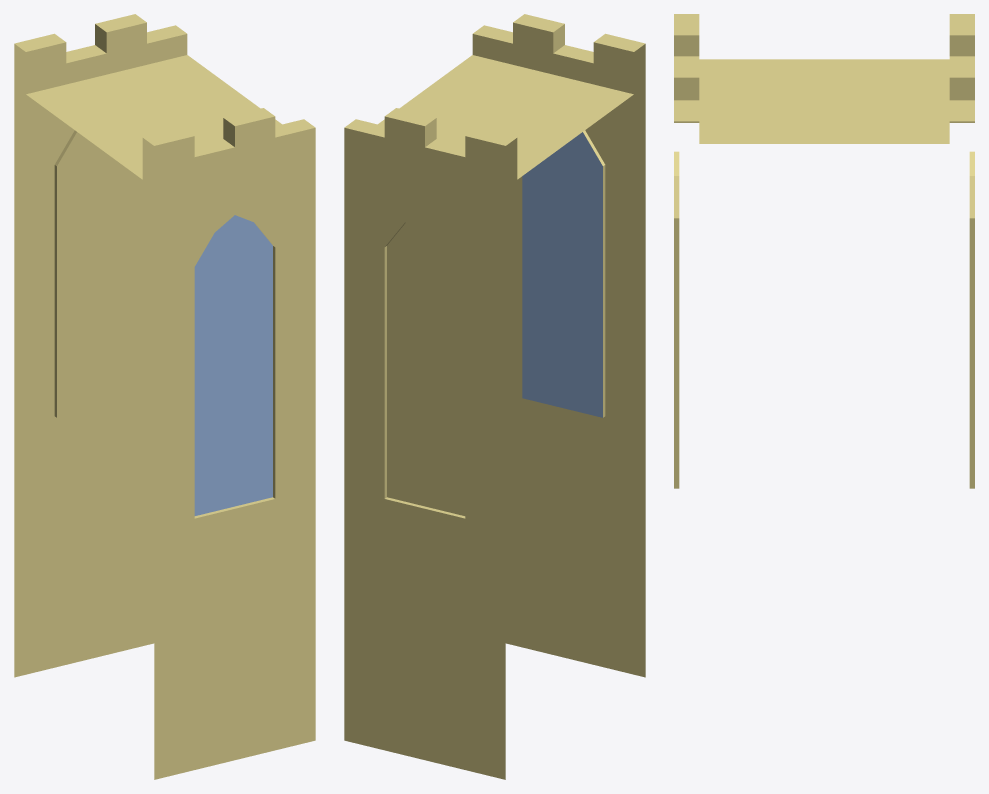
The model's file is CityWall01.fbx.
The picture shows the model from 3 angles, left to right: view 1: azimuth 30°, elevation 25°; view 2: azimuth 150°, elevation 25°; view 3: azimuth 270°, elevation 25°; orthographic projection. The views are drawn at different scales.
Parts seen in each view (by area): view 1: CityWall01_LOD0; view 2: CityWall01_LOD0; view 3: CityWall01_LOD0.
Boxes of the visible parts, <box> form: CityWall01_LOD0: <box>14,14,315,779</box>; CityWall01_LOD0: <box>344,14,645,779</box>; CityWall01_LOD0: <box>674,14,974,488</box>.
Size of what is drawn, in the model's own units: 400 by 1500 by 600.
